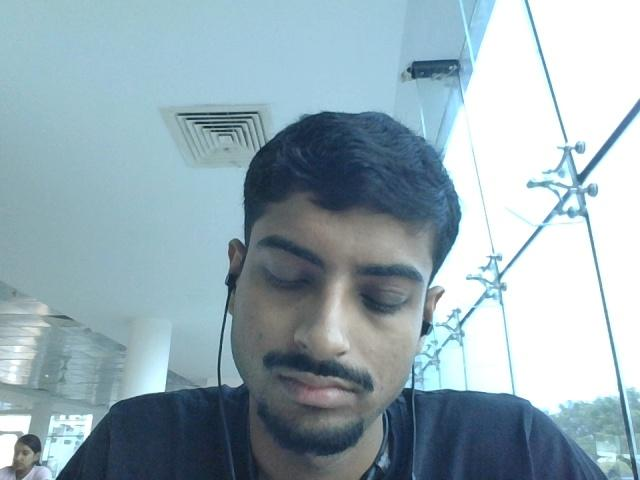nervous: (232, 119, 467, 461)
